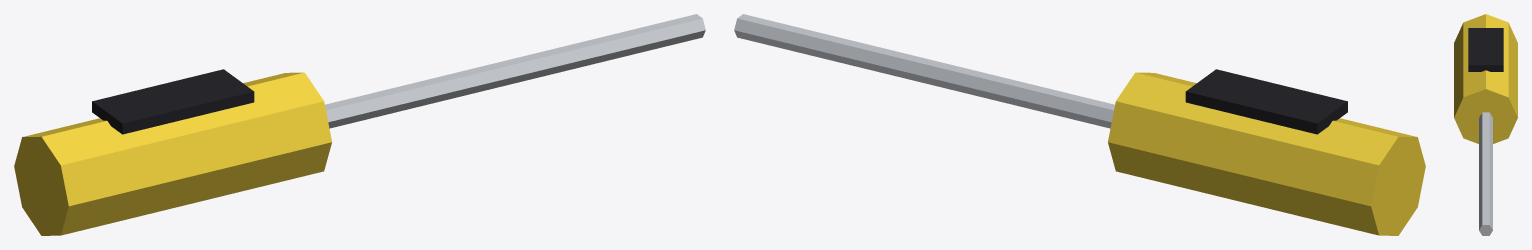
File: station_screwdriver.glb
The picture shows the model from 3 angles, left to right: view 1: azimuth 30°, elevation 25°; view 2: azimuth 150°, elevation 25°; view 3: azimuth 270°, elevation 25°; orthographic projection. The views are drawn at different scales.
Visible parts, largest first — view 1: handle_screwdriver_yellow, shaft_needle_steel, label_label_black; view 2: handle_screwdriver_yellow, shaft_needle_steel, label_label_black; view 3: handle_screwdriver_yellow, shaft_needle_steel, label_label_black.
Part boxes in pixels (x1,y1,x2,y2): handle_screwdriver_yellow: [14, 72, 331, 235]; shaft_needle_steel: [325, 14, 705, 128]; label_label_black: [92, 69, 254, 134]; handle_screwdriver_yellow: [1108, 72, 1425, 235]; shaft_needle_steel: [734, 14, 1114, 128]; label_label_black: [1185, 69, 1347, 134]; handle_screwdriver_yellow: [1454, 14, 1517, 143]; shaft_needle_steel: [1479, 112, 1492, 235]; label_label_black: [1468, 28, 1503, 71].
Size of the model in its own units: 0.25 by 0.039 by 0.036.
